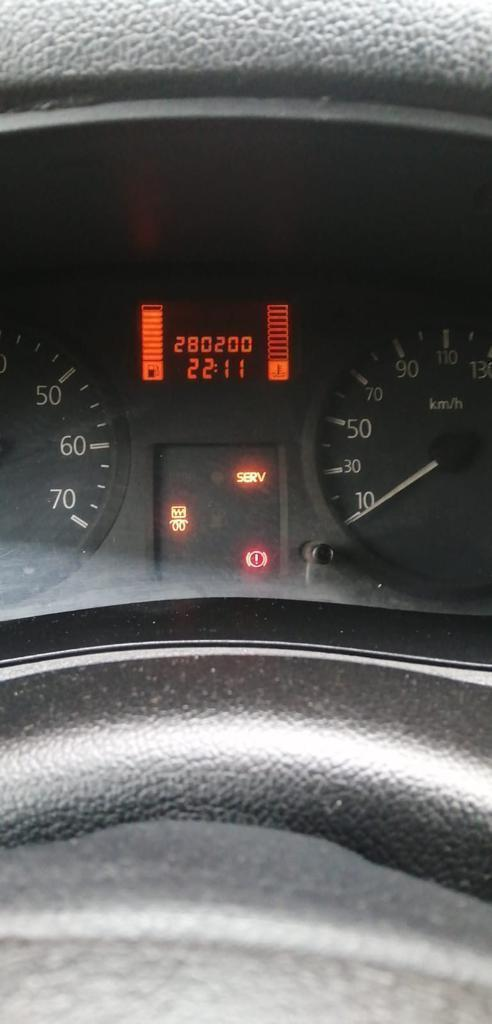0: (227, 335, 239, 353), (200, 335, 212, 353), (241, 335, 252, 352)
1: (238, 358, 246, 380), (224, 359, 231, 379)
2: (186, 357, 199, 379), (202, 357, 213, 380), (214, 335, 225, 353), (174, 335, 185, 352)
8: (187, 335, 198, 353)
X: (214, 362, 218, 374)
odometer: (129, 294, 301, 390)
